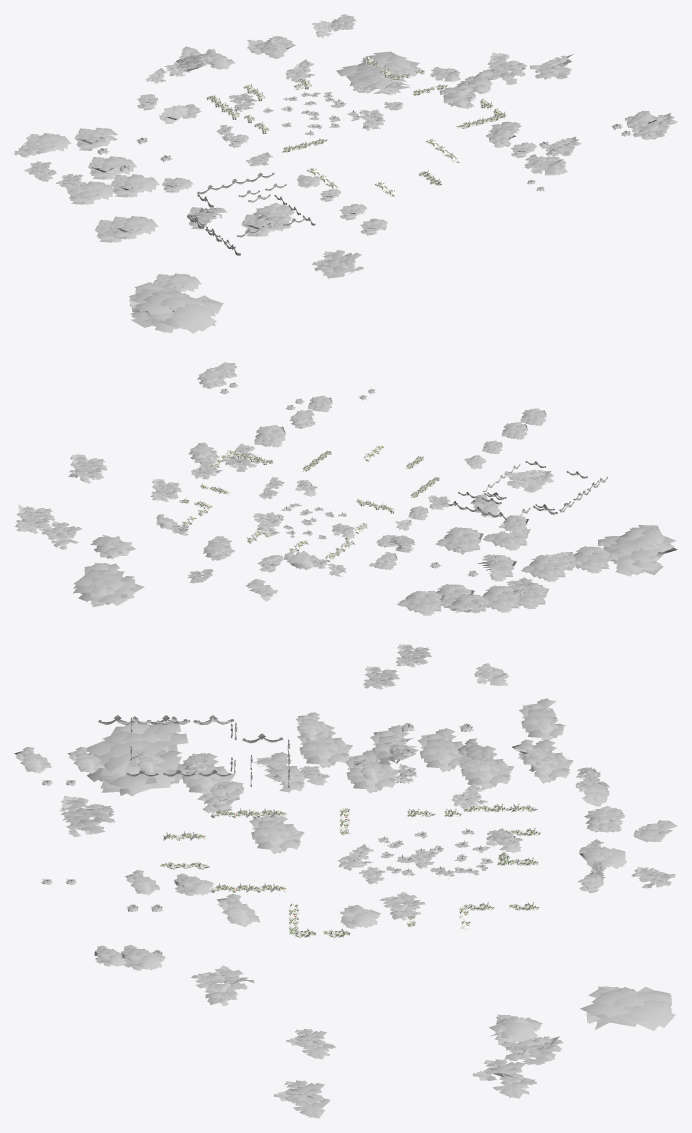
Rendered from city_01_plant_01.FBX.
3 views of the same model, one above another, from view 1: azimuth 30°, elevation 25°; view 2: azimuth 150°, elevation 25°; view 3: azimuth 270°, elevation 25° (orthographic). The views are drawn at different scales.
Parts seen in each view (by area): view 1: plant01; view 2: plant01; view 3: plant01.
Boxes of the visible parts, left/top/right/bottom form: plant01: left=14, top=14, right=677, bottom=333; plant01: left=14, top=362, right=677, bottom=615; plant01: left=14, top=644, right=677, bottom=1118.
Bounding box in the file's own units: 377 × 61.05 × 279.
